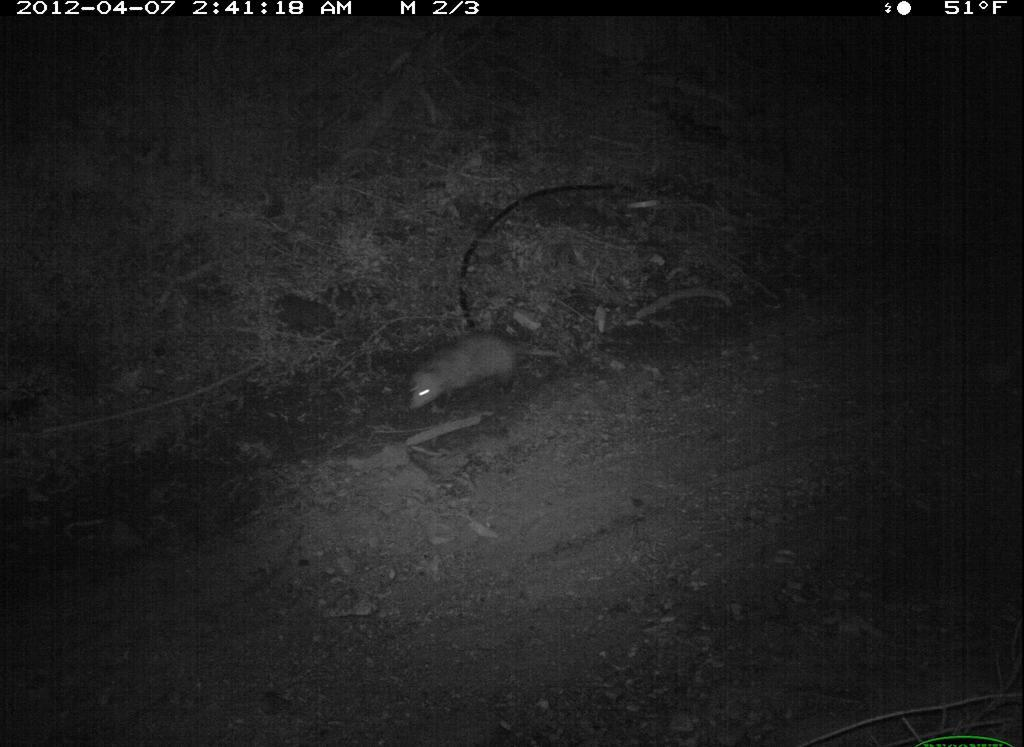opossum: (397, 327, 567, 422)
